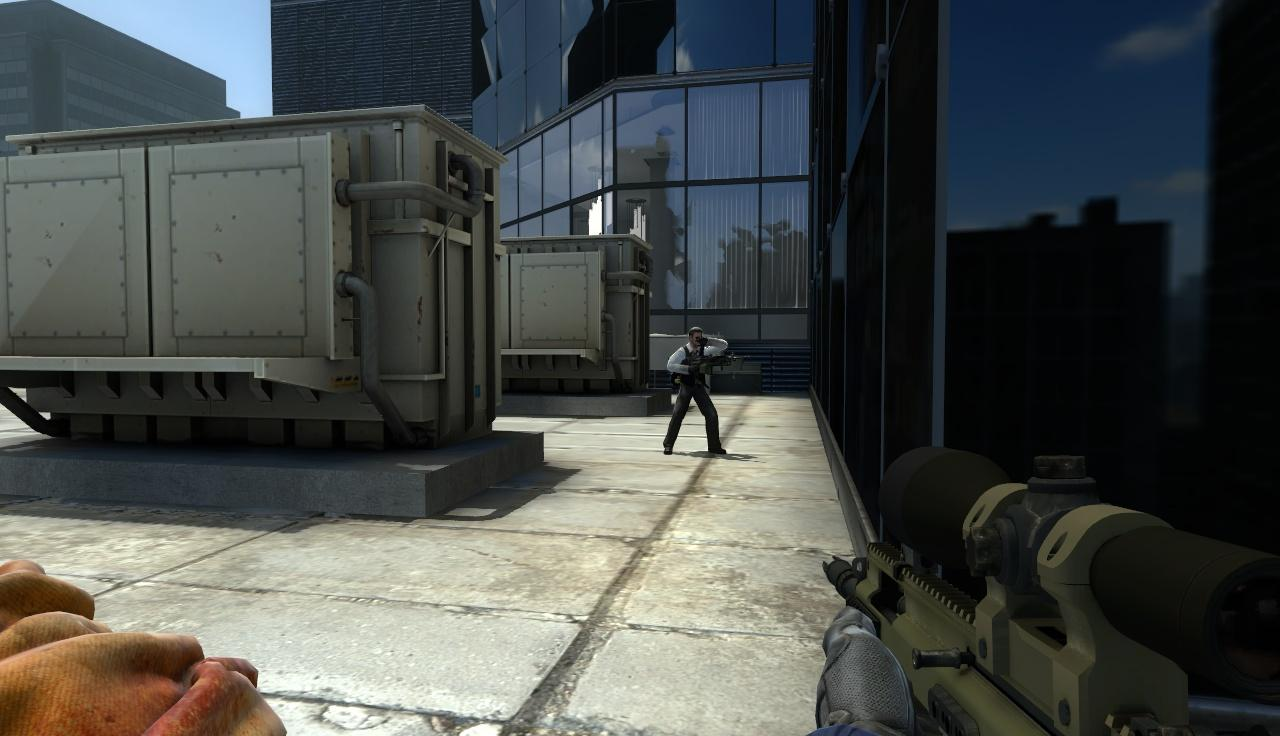rifle: (813, 434, 1280, 736)
tt: (667, 327, 722, 454)
tthead: (688, 326, 704, 347)
